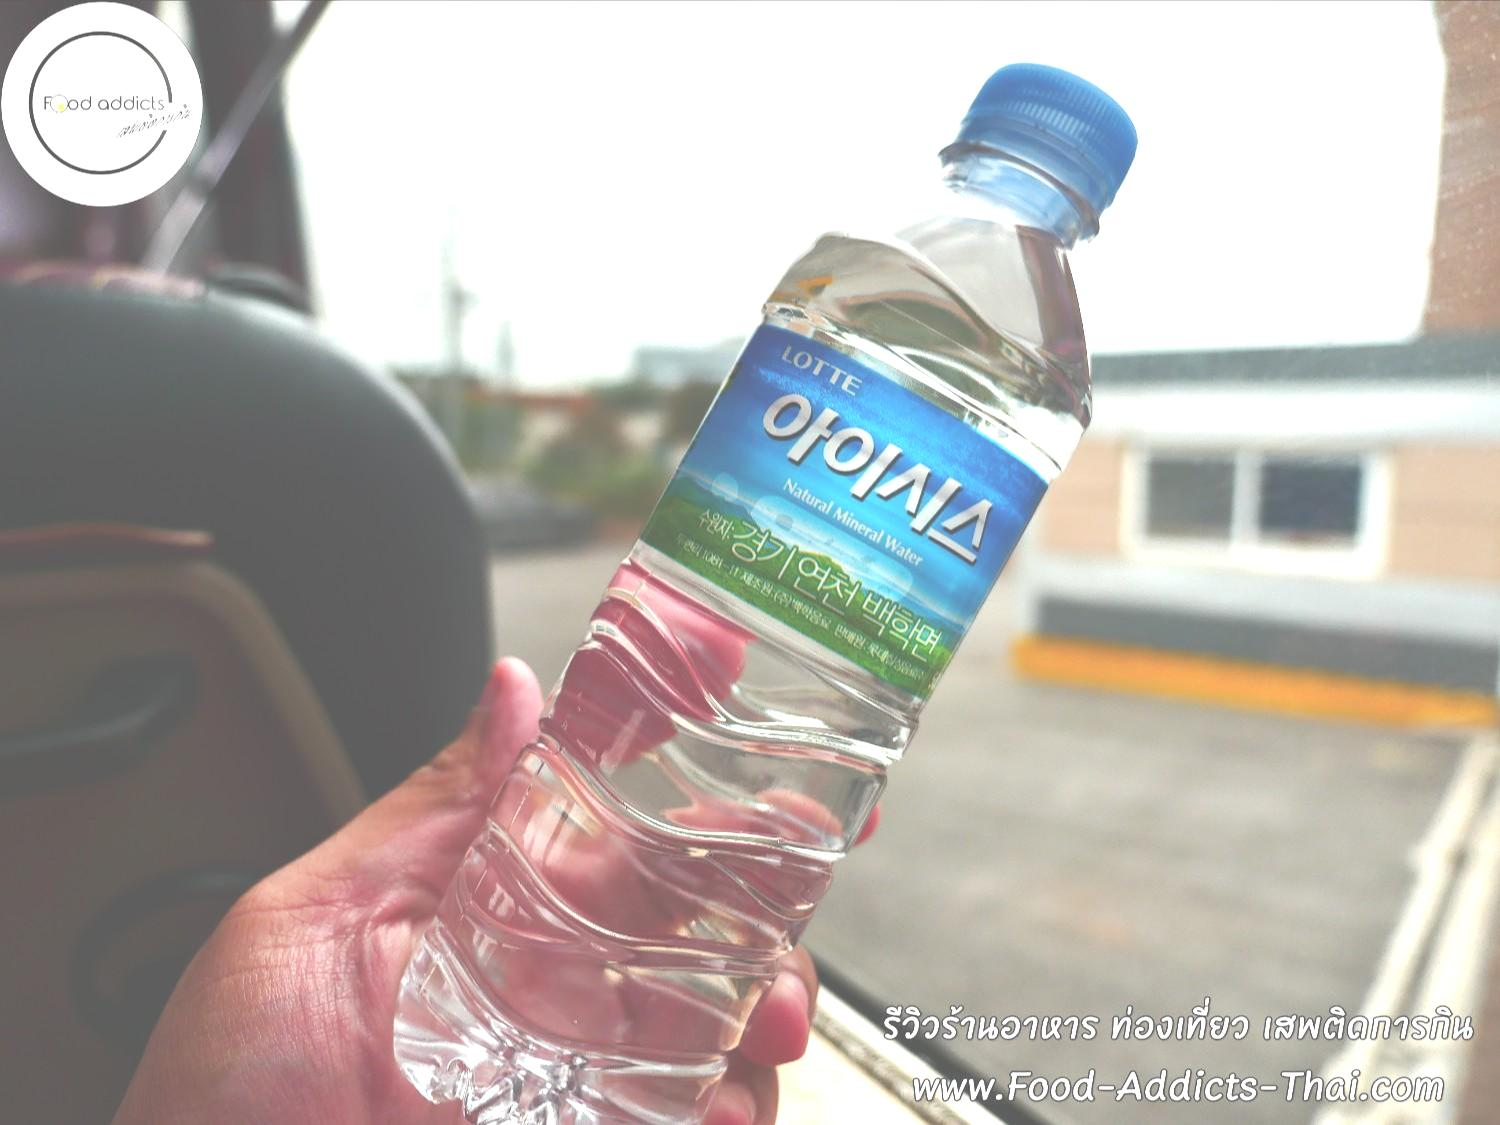bottle: (371, 30, 1152, 1125)
